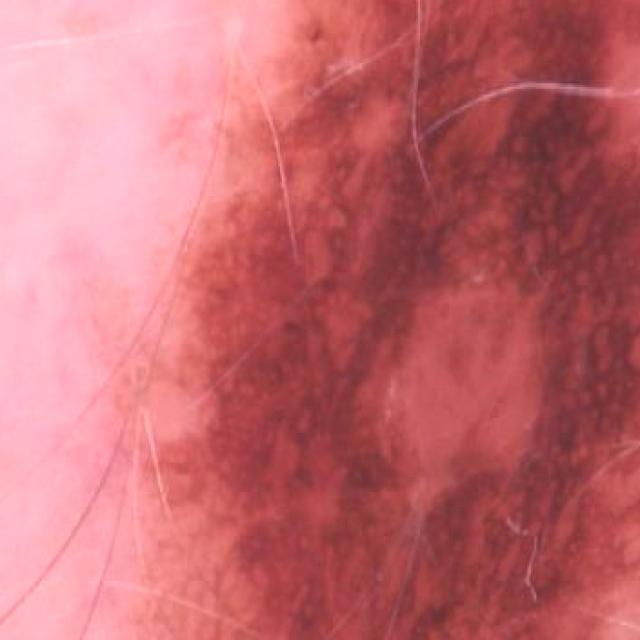NV: (156, 0, 640, 640)
